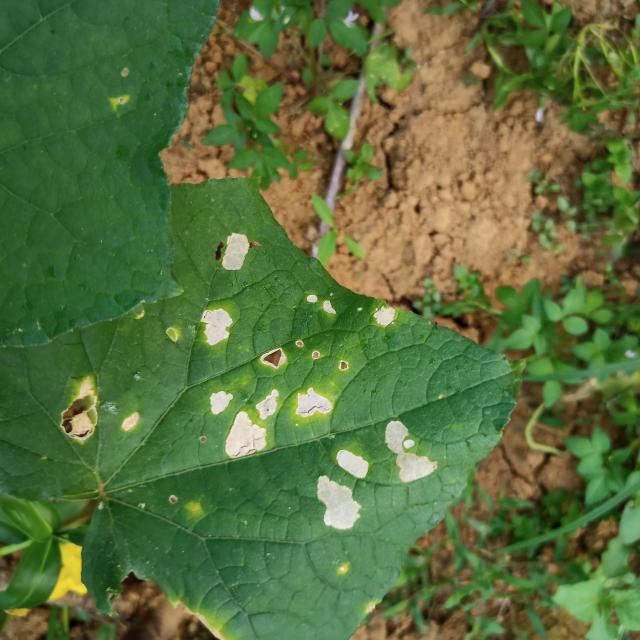disease_cucumber: (207, 348, 334, 460), (58, 376, 142, 440), (311, 447, 375, 531), (383, 419, 440, 485), (200, 306, 234, 348), (221, 231, 251, 274), (303, 290, 339, 318), (371, 304, 398, 329)
